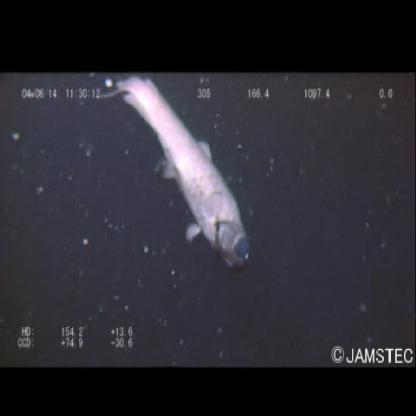Bio: (99, 74, 254, 276)
